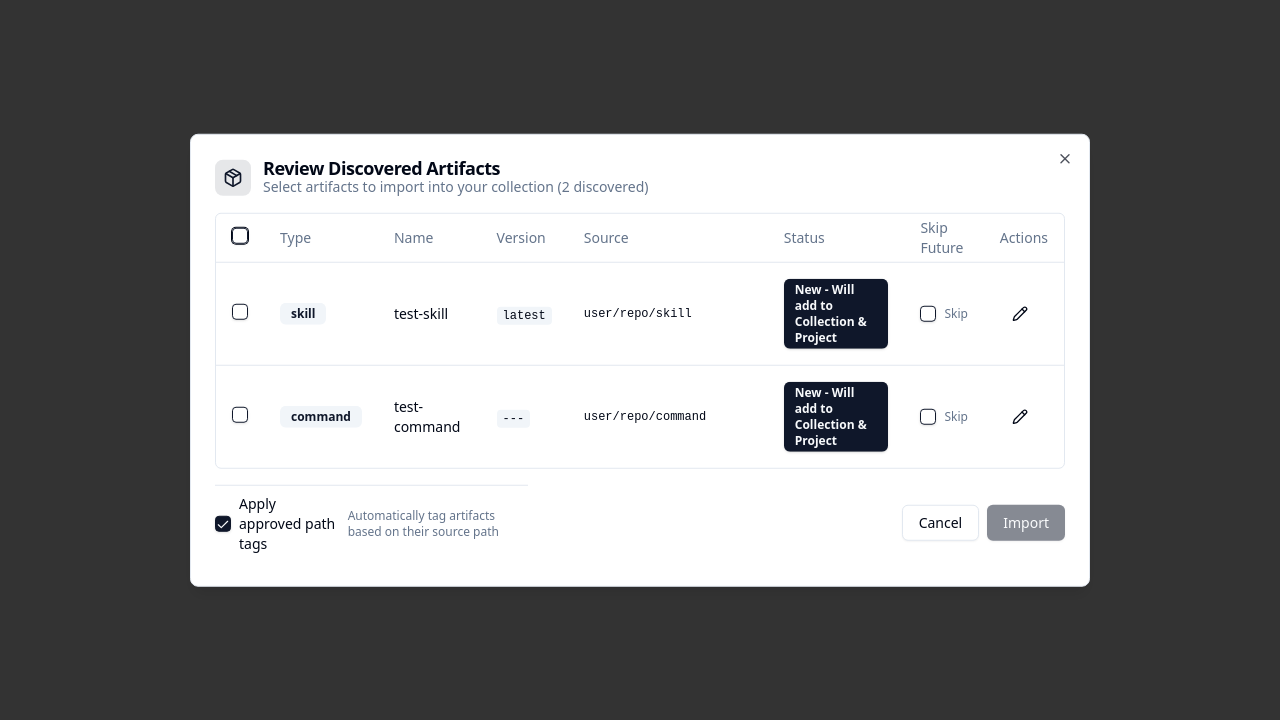
BulkImportModal › displays loading state during import
// Select an artifact
Click the checkbox named "Select test-skill".
click(240, 311)  # box [232,303,248,319]
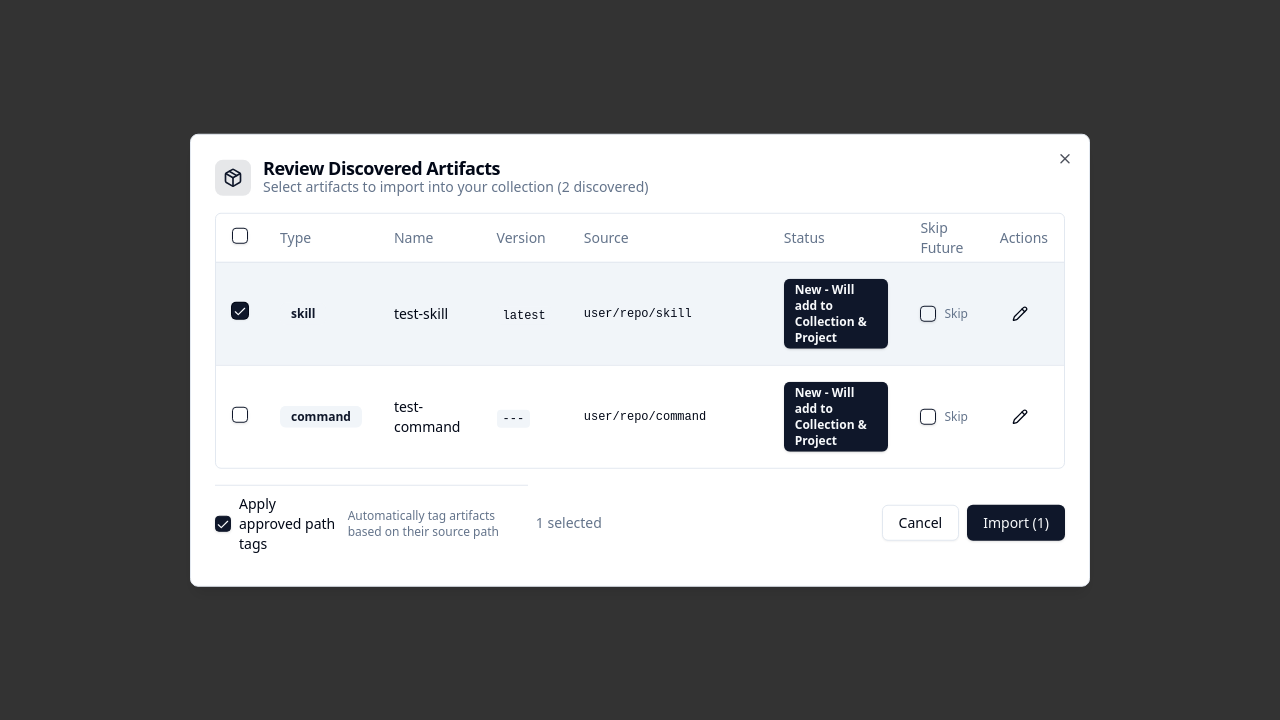
// Click import
Click the button "Import (1)".
click(1016, 523)  # box [967,505,1065,541]
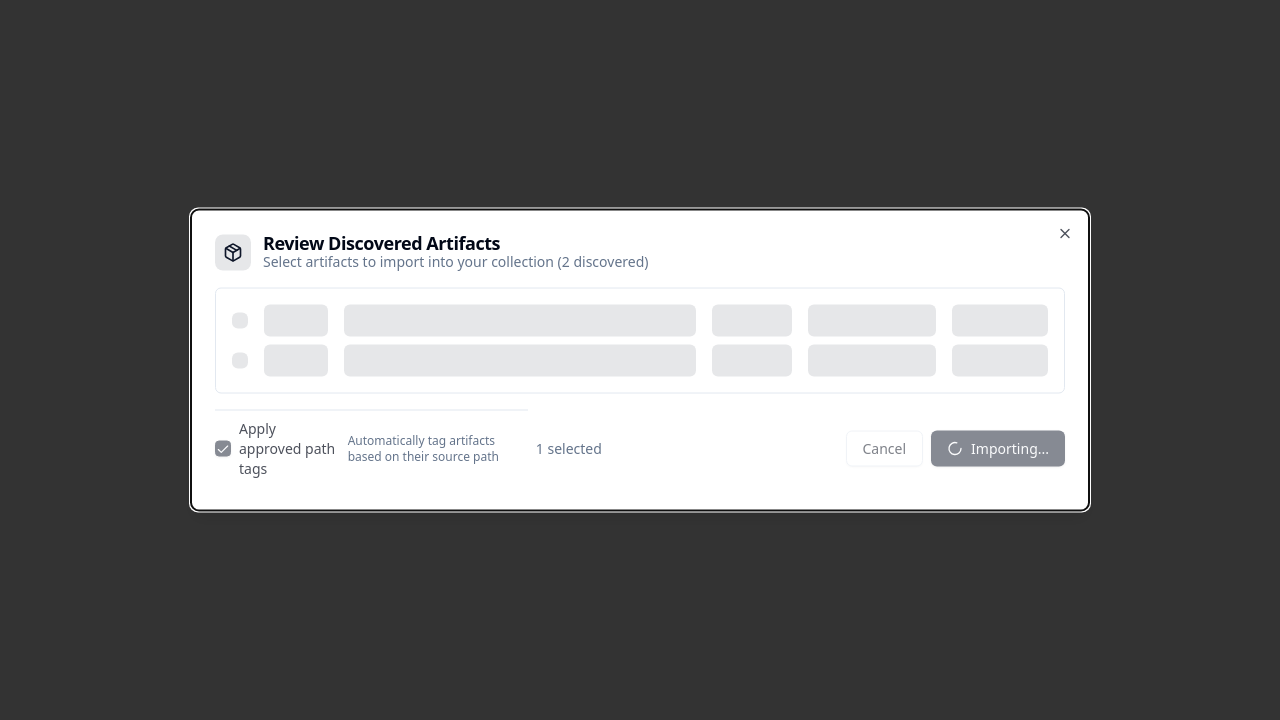
expect the button "Importing..." is disabled: met, box [931,430,1065,466]
expect the button "Cancel" is disabled: met, box [846,430,923,466]
